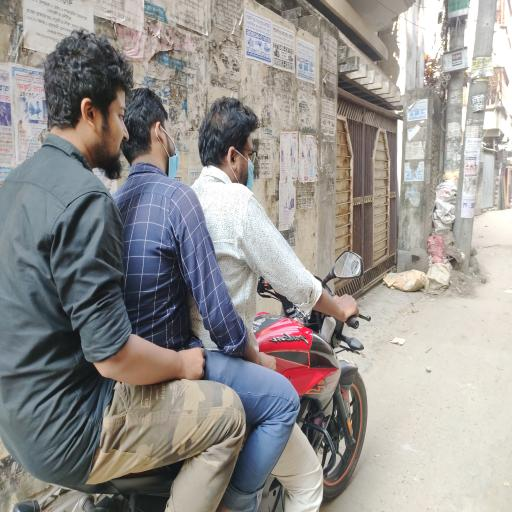overloading: (2, 26, 370, 508)
